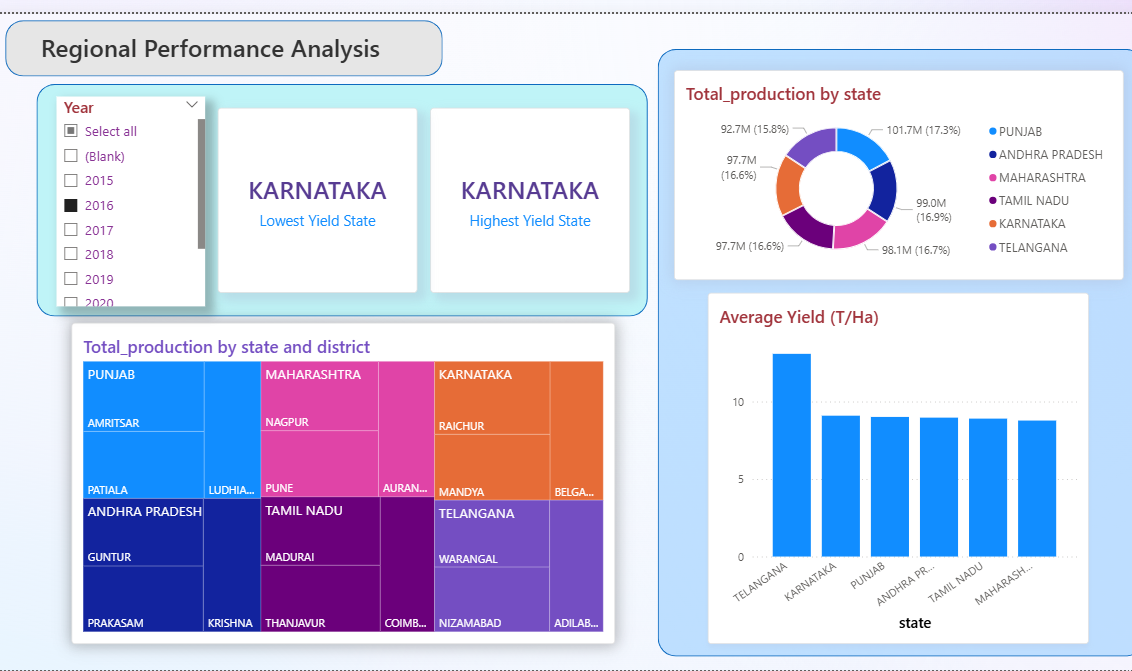

What the dashboard file says about the page in this screenshot:
{"tool":"powerbi","page":{"name":"Regional Performance ","canvas":[1280,720],"ordinal":2},"visuals":[{"type":"shape","box":[728.6,38.4,535.2,666.9],"z":0},{"type":"shape","box":[12.3,6.9,480.3,61.7],"z":1000},{"type":"shape","box":[46.7,76.8,671,255.2],"z":2000},{"type":"treemap","title":"Total_production by state and district","fields":{"Details":["gold_region_performance.district"],"Group":["gold_region_performance.state"],"Values":["Sum(gold_region_performance.total_production)"]},"box":[85.1,338.9,596.9,352.7],"z":3000},{"type":"textbox","box":[46.7,13.7,432.2,48],"z":4000},{"type":"donutChart","title":"Total_production by state","fields":{"Category":["gold_region_performance.state"],"Y":["Sum(gold_region_performance.total_production)"]},"box":[746.5,61.7,494,230.5],"z":5000},{"type":"slicer","fields":{"Values":["gold_region_performance.Year"]},"box":[68.6,90.6,163.3,230.5],"z":6000},{"type":"card","fields":{"Values":["gold_region_performance.Highest Yield State"]},"box":[478.9,102.9,219.6,203.1],"z":7000},{"type":"card","fields":{"Values":["gold_region_performance.Lowest Yield State"]},"box":[245.6,102.9,219.6,203.1],"z":8000},{"type":"clusteredColumnChart","title":"Average Yield (T/Ha)","fields":{"Category":["gold_region_performance.state"],"Y":["Sum(gold_region_performance.avg_yield)"]},"box":[783.5,306,418.5,385.6],"z":9000}]}

Visuals, with their boxes on the page's 1280x720 design canvas (x1, y1, x2, y2). These are canvas units, not pixel positions in the 1132x671 screenshot, which may show the page scaled, cropped or inside an application window:
shape: 729:38:1264:705
shape: 12:7:493:69
shape: 47:77:718:332
"Total_production by state and district" treemap: 85:339:682:692
textbox: 47:14:479:62
"Total_production by state" donutChart: 746:62:1240:292
slicer - gold_region_performance.Year: 69:91:232:321
card - gold_region_performance.Highest Yield State: 479:103:698:306
card - gold_region_performance.Lowest Yield State: 246:103:465:306
"Average Yield (T/Ha)" clusteredColumnChart: 784:306:1202:692
